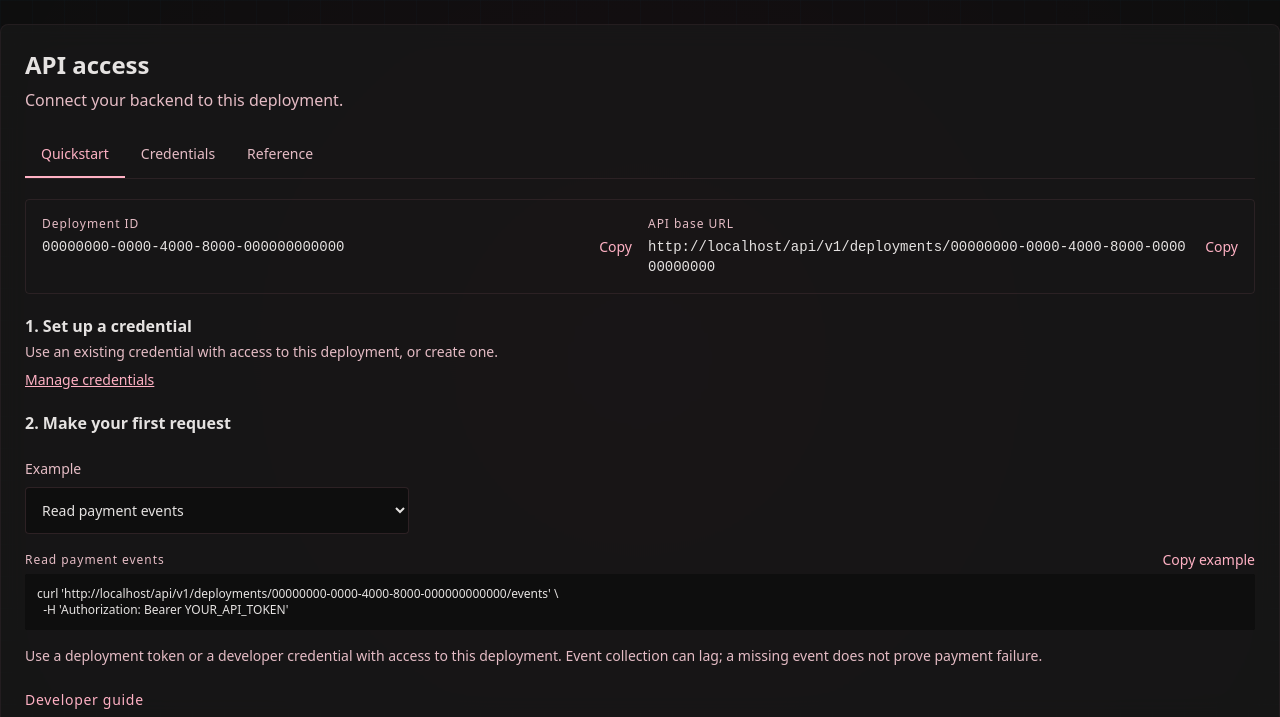
Test case: deployment integration instructions › shows deposit instructions before minting a token and includes a request body
The width and height of the screenshot is (1280, 717).
Select "Prepare a payment" in the dropdown labelled "Example" at (217, 510), box x1=25 y1=487 x2=409 y2=534
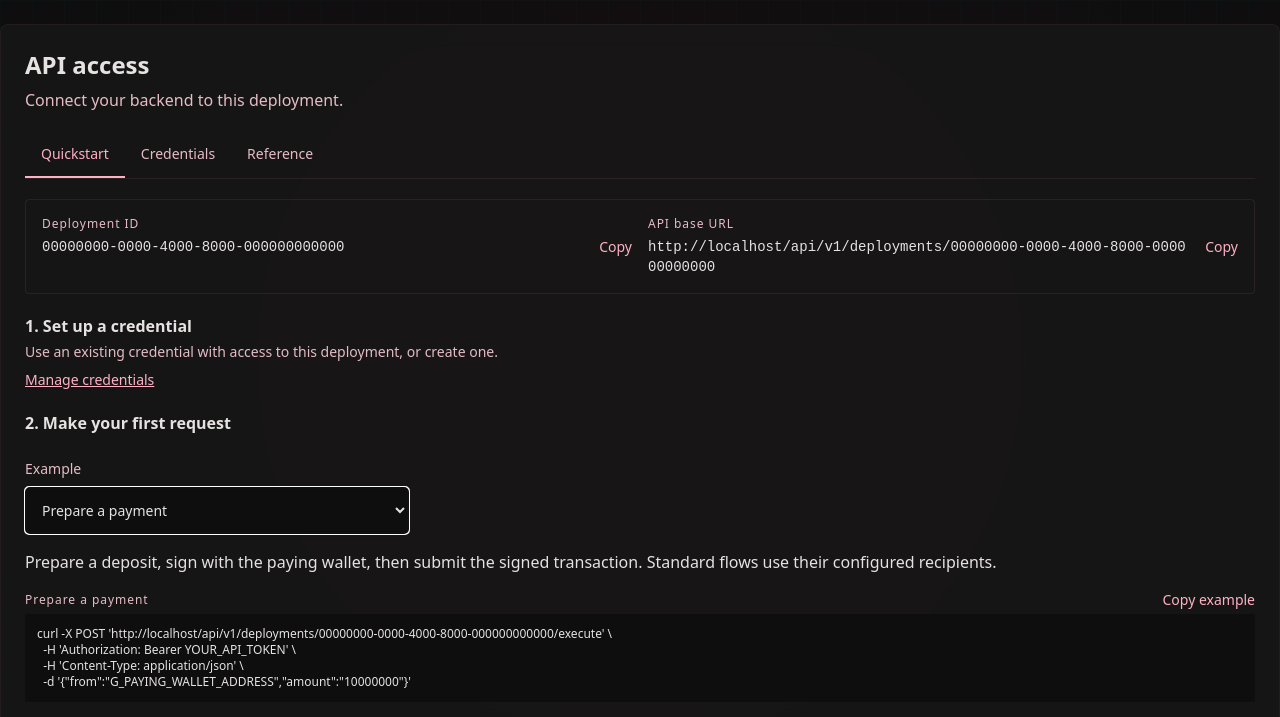
Check: the text "curl -X POST" shows "YOUR_API_TOKEN", box x1=37 y1=625 x2=612 y2=690
Check: the text "curl -X POST" shows "\"from\":\"G_PAYING_WALLET_ADDRESS\"", box x1=37 y1=625 x2=612 y2=690
Check: the text "curl -X POST" shows "\"amount\":\"10000000\"", box x1=37 y1=625 x2=612 y2=690
